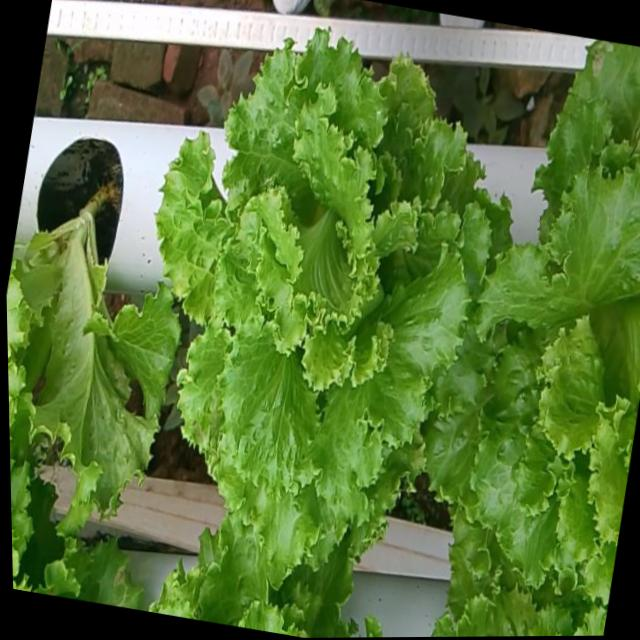Mature: (161, 15, 499, 557), (431, 142, 640, 575)
